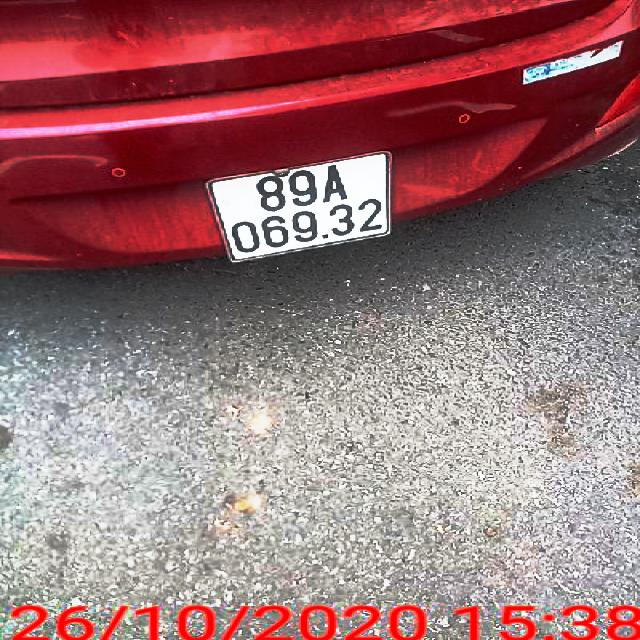license_plate: (209, 154, 396, 262)
